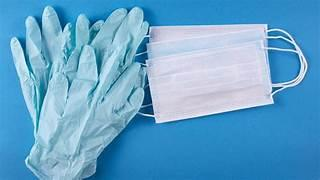Glove: (43, 7, 87, 84)
Mask: (147, 28, 306, 122)
